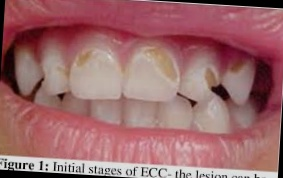Caries: (143, 46, 186, 88), (193, 63, 222, 92), (70, 44, 98, 72), (225, 59, 250, 77)
